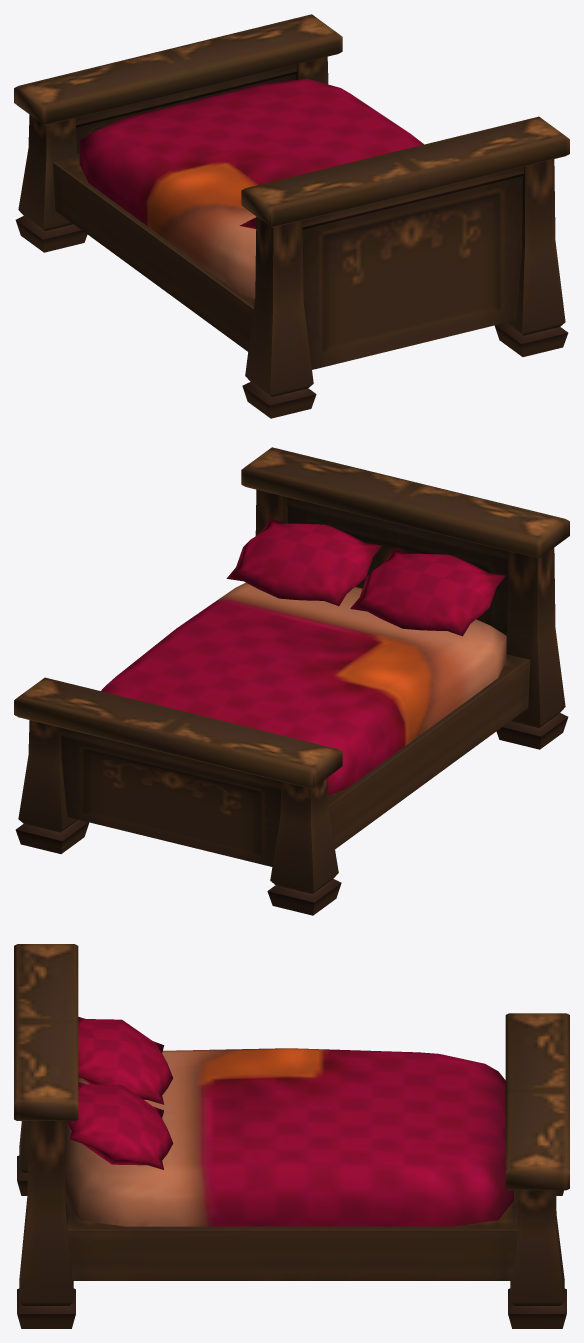
File: Bed02.gltf
3 renders of one model, top to bottom at view 1: azimuth 30°, elevation 25°; view 2: azimuth 150°, elevation 25°; view 3: azimuth 270°, elevation 25°, orthographic. The views are drawn at different scales.
Parts seen in each view (by area): view 1: Bed02; view 2: Bed02; view 3: Bed02.
Boxes of the visible parts, box(x1,y1,x2,y2) form: Bed02: box(14, 14, 569, 418); Bed02: box(14, 447, 569, 915); Bed02: box(14, 944, 569, 1328).
Bounding box in the file's own units: 69.23 × 47.03 × 103.
